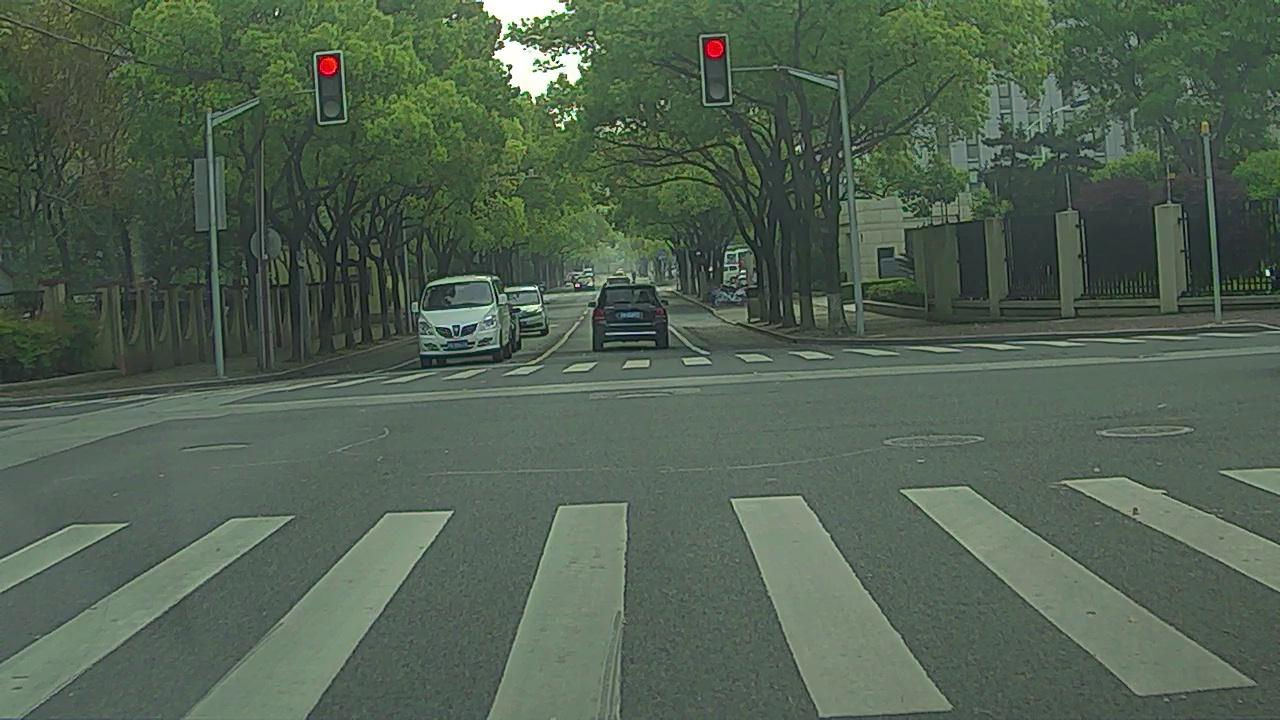traffic_light: (318, 52, 346, 121), (702, 40, 730, 104)
